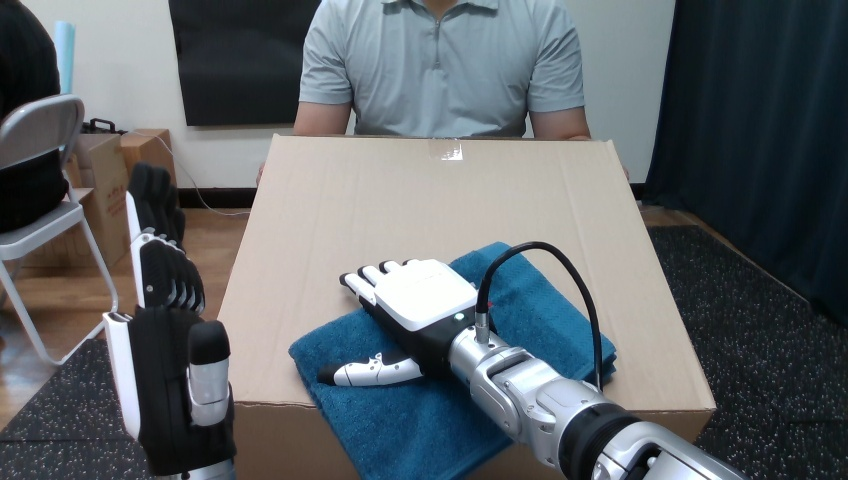left robot arm: (319, 241, 744, 479), (487, 248, 597, 385)
left robot hand: (318, 241, 744, 479)
right robot arm: (319, 241, 744, 479), (487, 248, 597, 385)
right robot hand: (318, 241, 744, 479)
